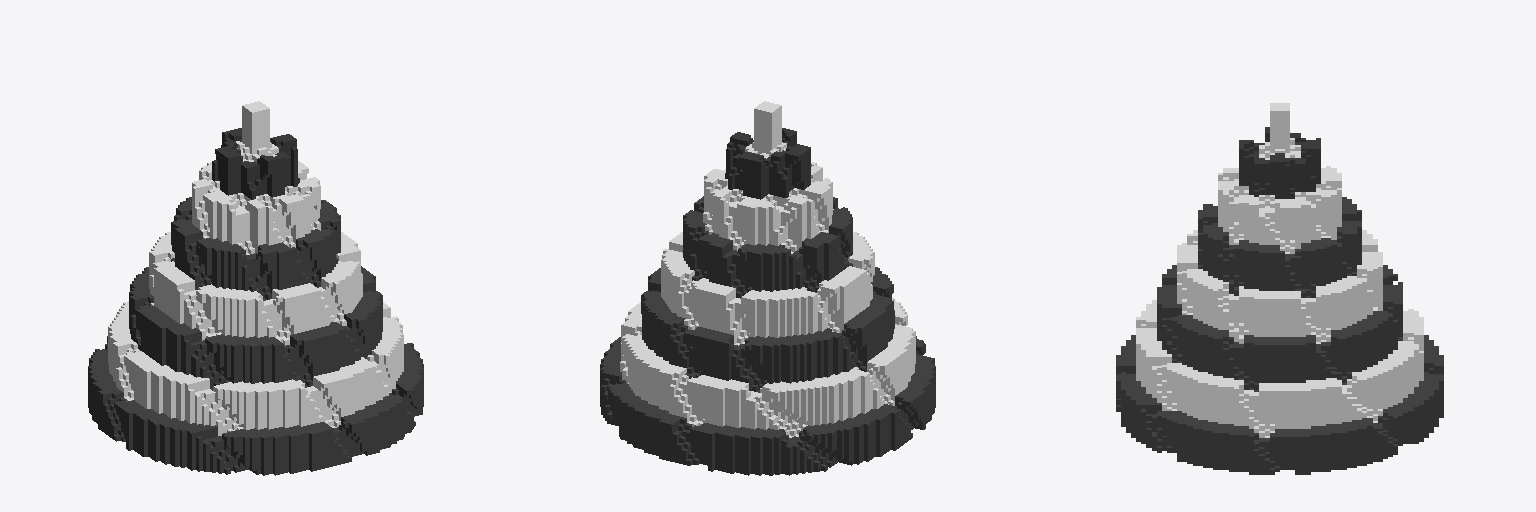
3 views of the same model, side by side, from view 1: azimuth 30°, elevation 25°; view 2: azimuth 150°, elevation 25°; view 3: azimuth 270°, elevation 25° (orthographic).
Parts seen in each view (by area): view 1: object 1; view 2: object 1; view 3: object 1.
Part boxes in pixels (bbox=[...]): object 1: bbox=[88, 101, 423, 475]; object 1: bbox=[600, 101, 935, 475]; object 1: bbox=[1116, 103, 1443, 474].
Size of the model in its own units: 6.4 by 6.4 by 6.4.
1 materials, 1 textured.